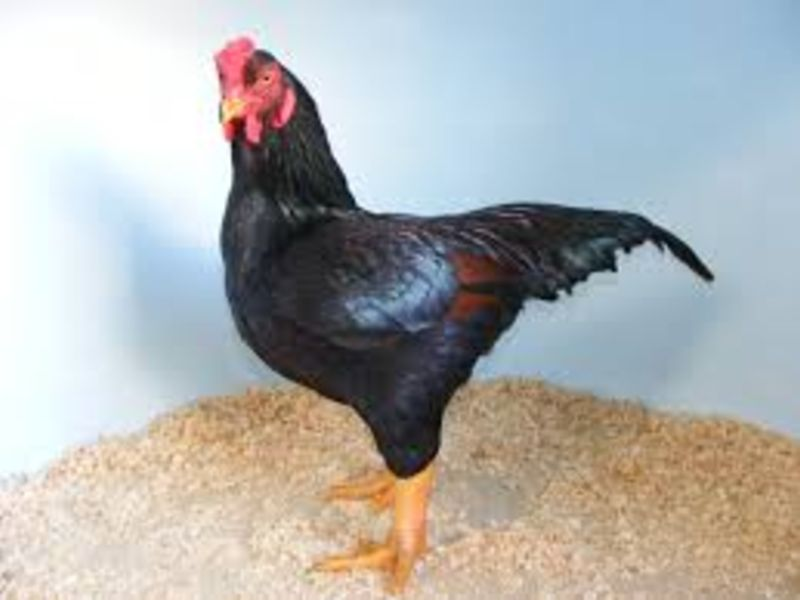hen: (205, 27, 729, 591)
